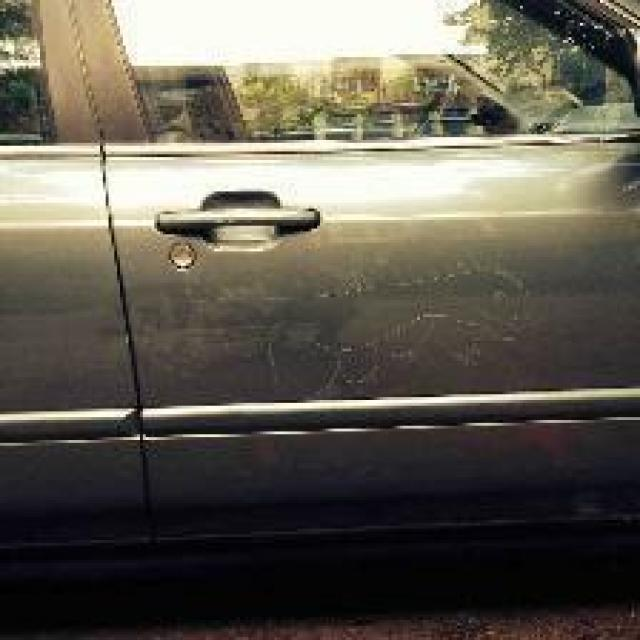damaged: (254, 263, 546, 400)
